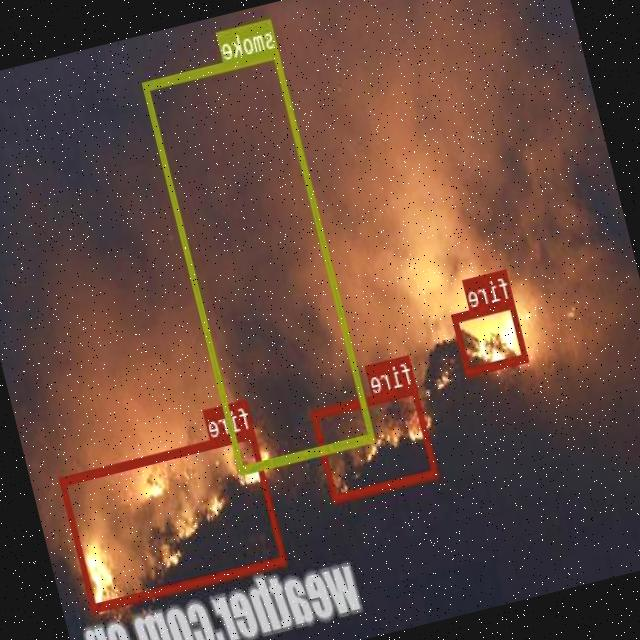fire: (59, 428, 288, 610), (312, 384, 438, 500), (452, 298, 528, 374)
smoke: (142, 46, 376, 472)
